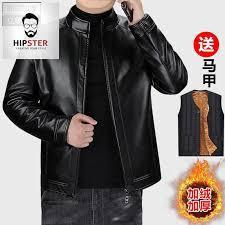jacket: (3, 9, 188, 190)
